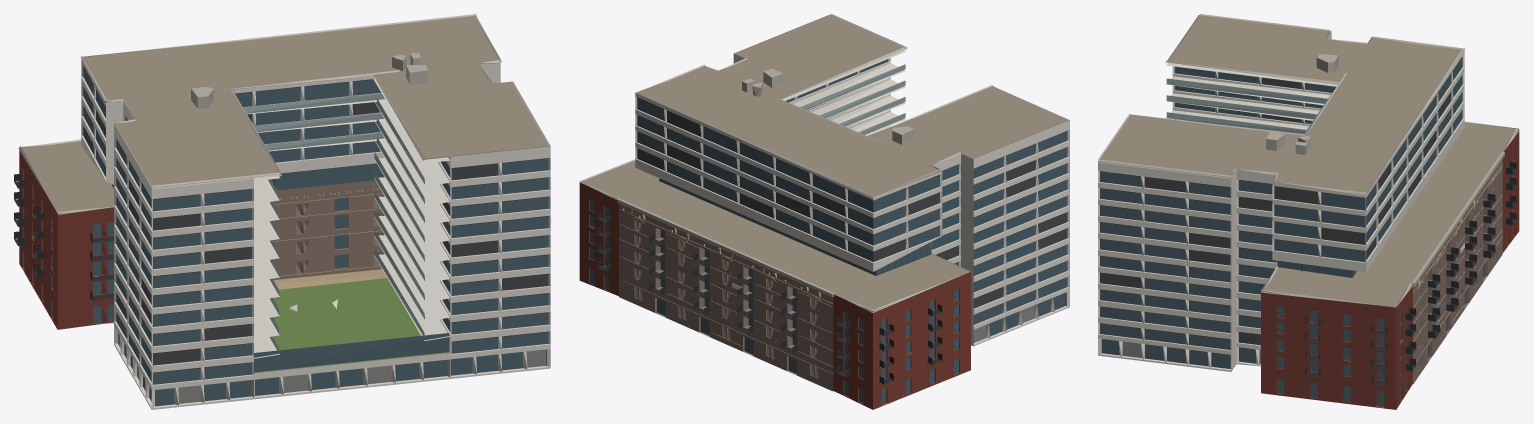
File: pakhuis-australie.lod1.glb
The picture shows the model from 3 angles, left to right: view 1: azimuth 30°, elevation 25°; view 2: azimuth 150°, elevation 25°; view 3: azimuth 270°, elevation 25°; orthographic projection. The views are drawn at different scales.
Visible parts, largest first — view 1: pakhuis-australie; view 2: pakhuis-australie; view 3: pakhuis-australie.
Part boxes in pixels (bbox=[...]): pakhuis-australie: bbox=[14, 14, 550, 409]; pakhuis-australie: bbox=[579, 14, 1069, 409]; pakhuis-australie: bbox=[1098, 14, 1519, 409].
Size of the model in its own units: 75.72 by 35.91 by 66.77.
